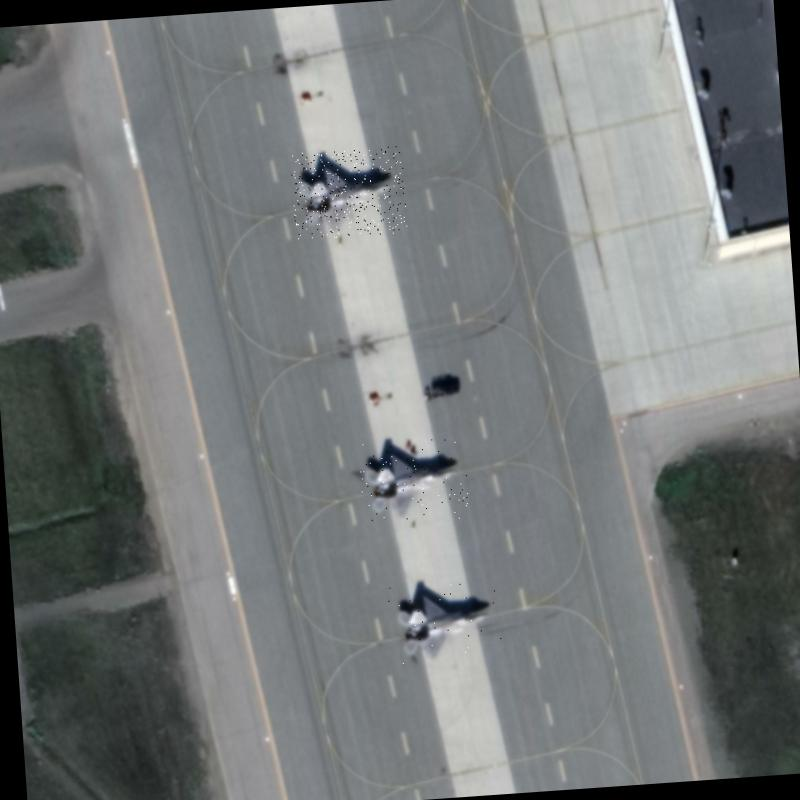A15: (290, 145, 408, 240), (386, 576, 504, 668), (358, 435, 469, 524)
